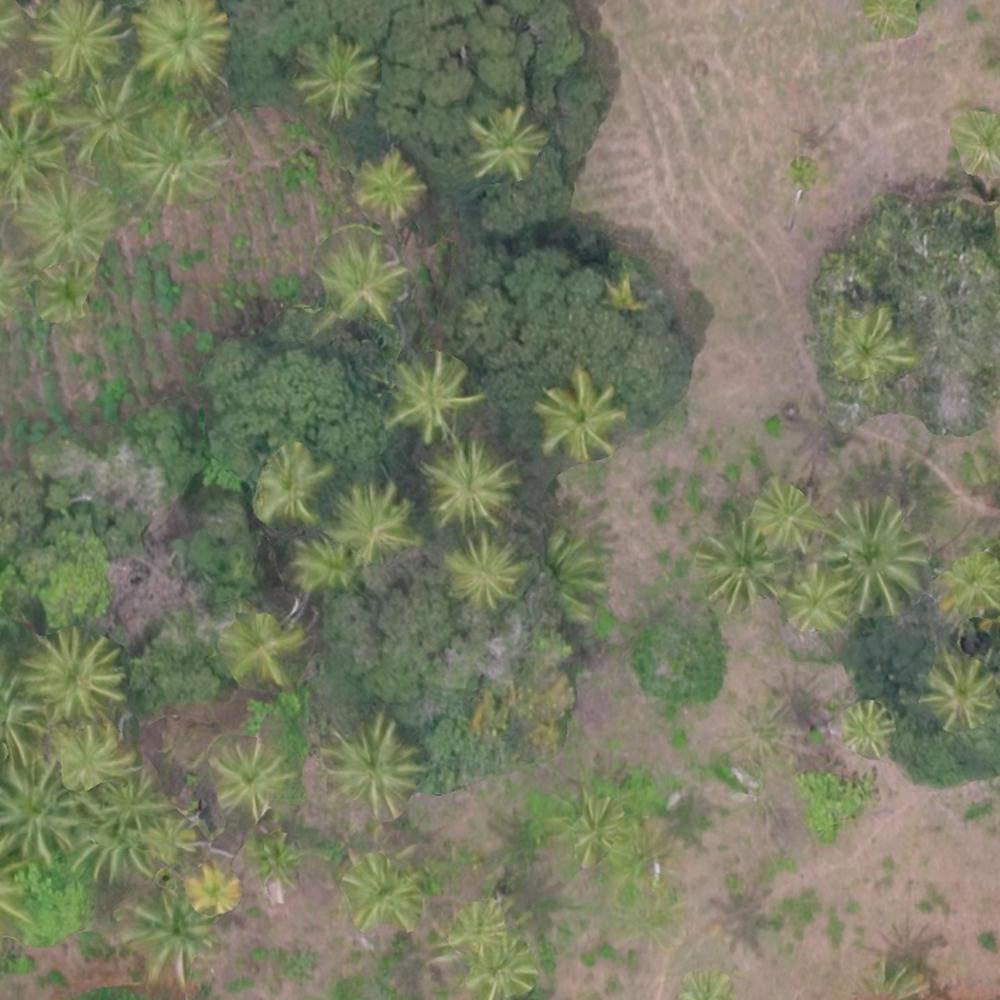Palm: (317, 717, 426, 821), (825, 504, 930, 608), (18, 627, 127, 724), (126, 108, 229, 206), (129, 1, 234, 90), (118, 891, 219, 981), (2, 757, 82, 862), (16, 180, 112, 266), (50, 85, 147, 167), (534, 372, 624, 458), (30, 2, 126, 81), (698, 527, 783, 615), (341, 848, 426, 933), (320, 236, 409, 316), (391, 353, 474, 436), (204, 739, 292, 816), (430, 441, 511, 524), (293, 34, 381, 110), (334, 484, 411, 567), (252, 447, 331, 527), (49, 722, 140, 791), (921, 650, 1000, 729), (442, 531, 520, 610), (219, 612, 302, 684), (470, 102, 545, 181), (750, 478, 829, 550), (836, 311, 912, 384), (780, 564, 857, 635), (935, 545, 1000, 618), (353, 156, 422, 221), (840, 697, 899, 763)
